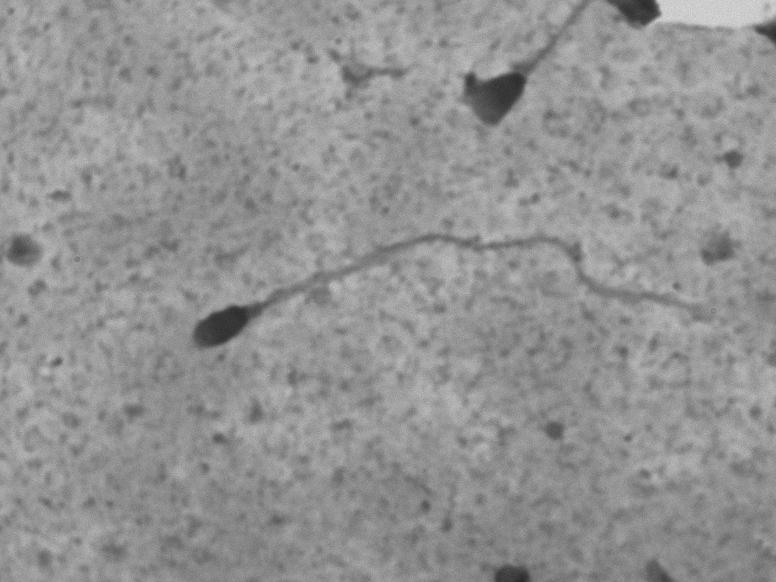Abnormal: (437, 9, 632, 143)
Normal: (172, 216, 726, 393)
